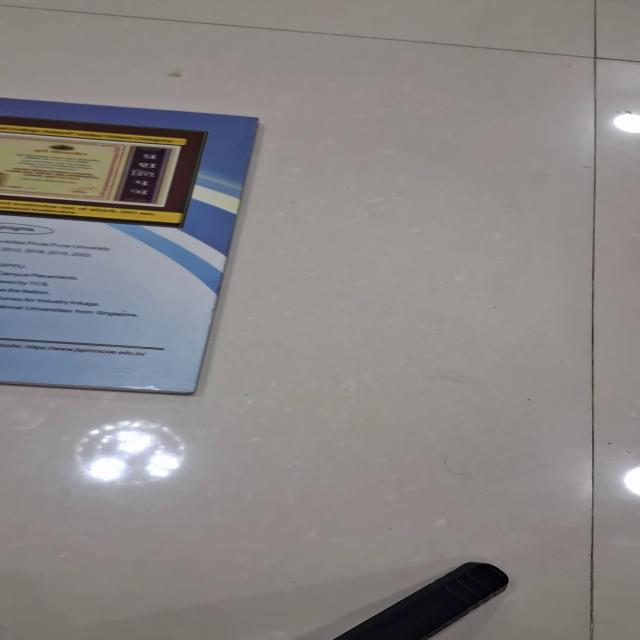paper: (1, 98, 259, 394)
